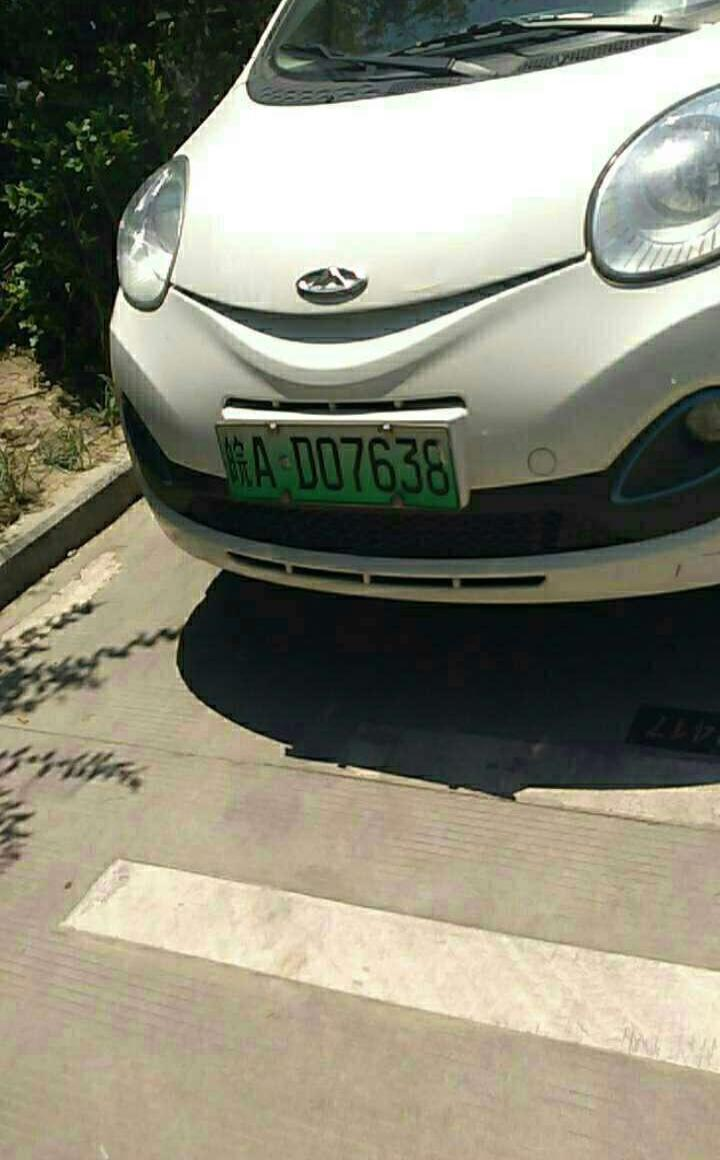car_id: (213, 426, 461, 506)
